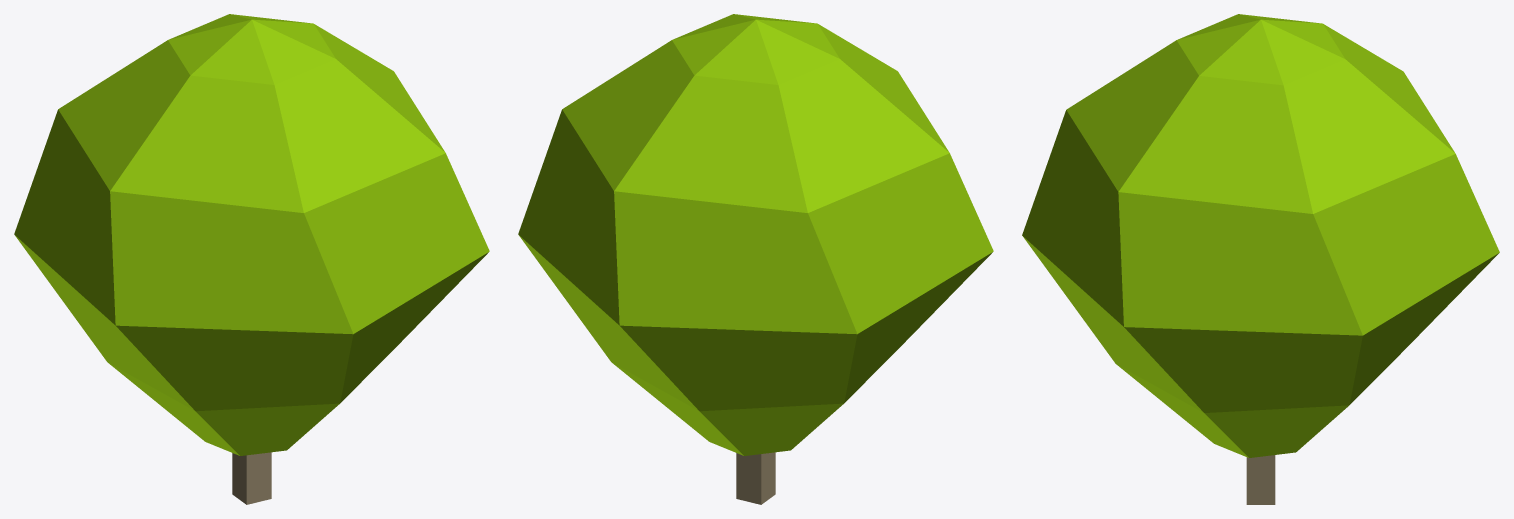
Rendered from tree_spheric_4.fbx.
The picture shows the model from 3 angles, left to right: view 1: azimuth 30°, elevation 25°; view 2: azimuth 150°, elevation 25°; view 3: azimuth 270°, elevation 25°; orthographic projection.
Visible parts, largest first — view 1: tree_spheric_4; view 2: tree_spheric_4; view 3: tree_spheric_4.
Boxes of the visible parts, x1,y1,x2,y2 form: tree_spheric_4: (14,14,489,504); tree_spheric_4: (518,14,993,504); tree_spheric_4: (1022,14,1499,504).
Size of the model in its own units: 184 by 225 by 203.
